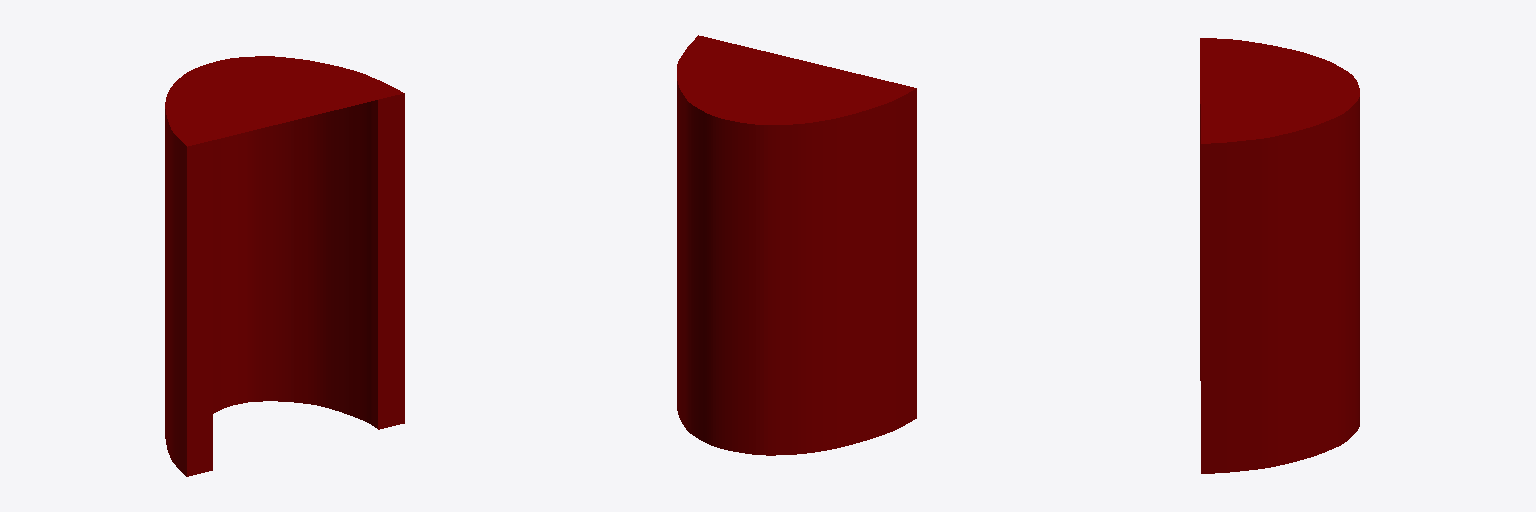
Rendered from Rainbow_Red.obj.
3 views of the same model, side by side, from view 1: azimuth 30°, elevation 25°; view 2: azimuth 150°, elevation 25°; view 3: azimuth 270°, elevation 25° (orthographic).
Parts seen in each view (by area): view 1: Line001; view 2: Line001; view 3: Line001.
Boxes of the visible parts, x1,y1,x2,y2 form: Line001: [165, 56, 404, 476]; Line001: [677, 35, 916, 455]; Line001: [1200, 38, 1359, 473].
Bounding box in the file's own units: 115 × 166 × 72.79.